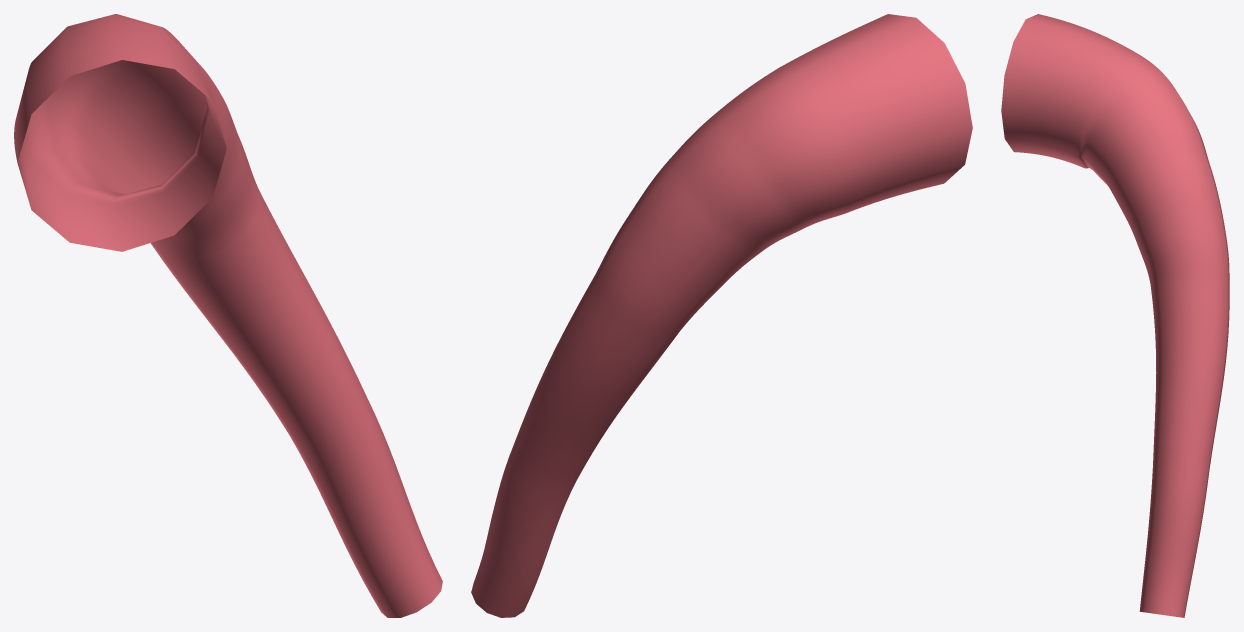
3 views of the same model, side by side, from view 1: azimuth 30°, elevation 25°; view 2: azimuth 150°, elevation 25°; view 3: azimuth 270°, elevation 25° (orthographic). The views are drawn at different scales.
Visible parts, largest first — view 1: ZA_4496036d4fa547b7; view 2: ZA_4496036d4fa547b7; view 3: ZA_4496036d4fa547b7.
Boxes of the visible parts, <box> form: ZA_4496036d4fa547b7: <box>14,14,442,617</box>; ZA_4496036d4fa547b7: <box>471,14,972,617</box>; ZA_4496036d4fa547b7: <box>1001,14,1229,617</box>.
Bounding box in the file's own units: 0.0674 × 0.0919 × 0.0398.
